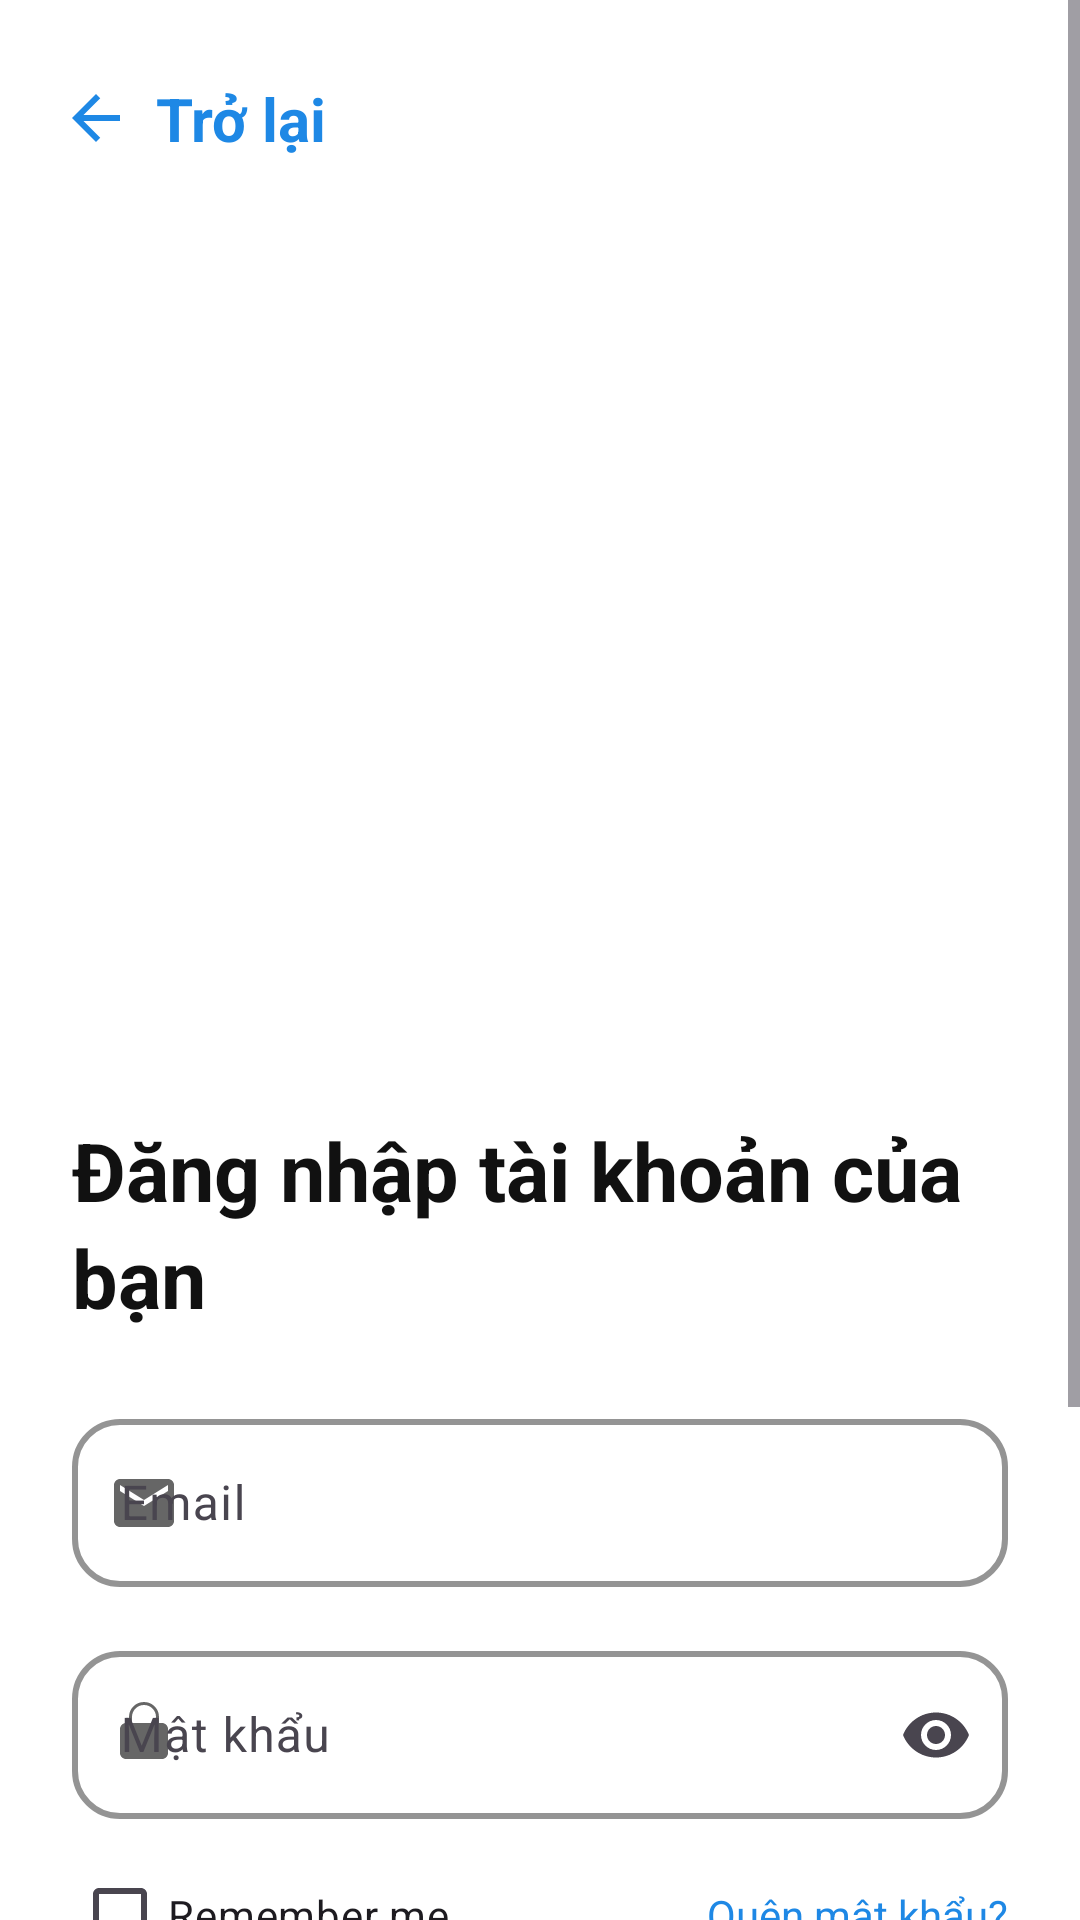

Screen size 1080px x 1920px. Icon name, then its box in pixels as (x1, y1, x2, y2):
Back icon: (72, 94, 120, 142)
